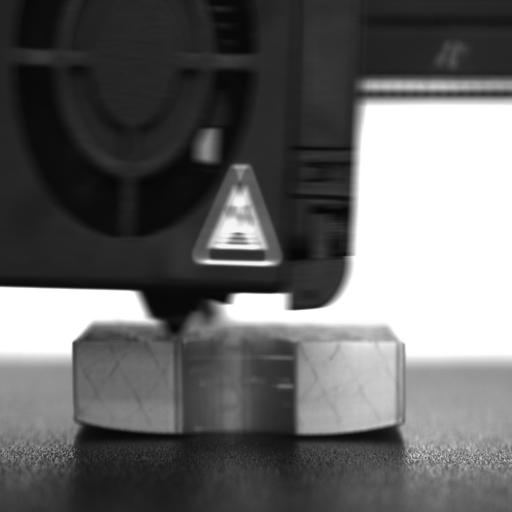warp: (333, 408, 409, 442), (69, 406, 143, 440)
